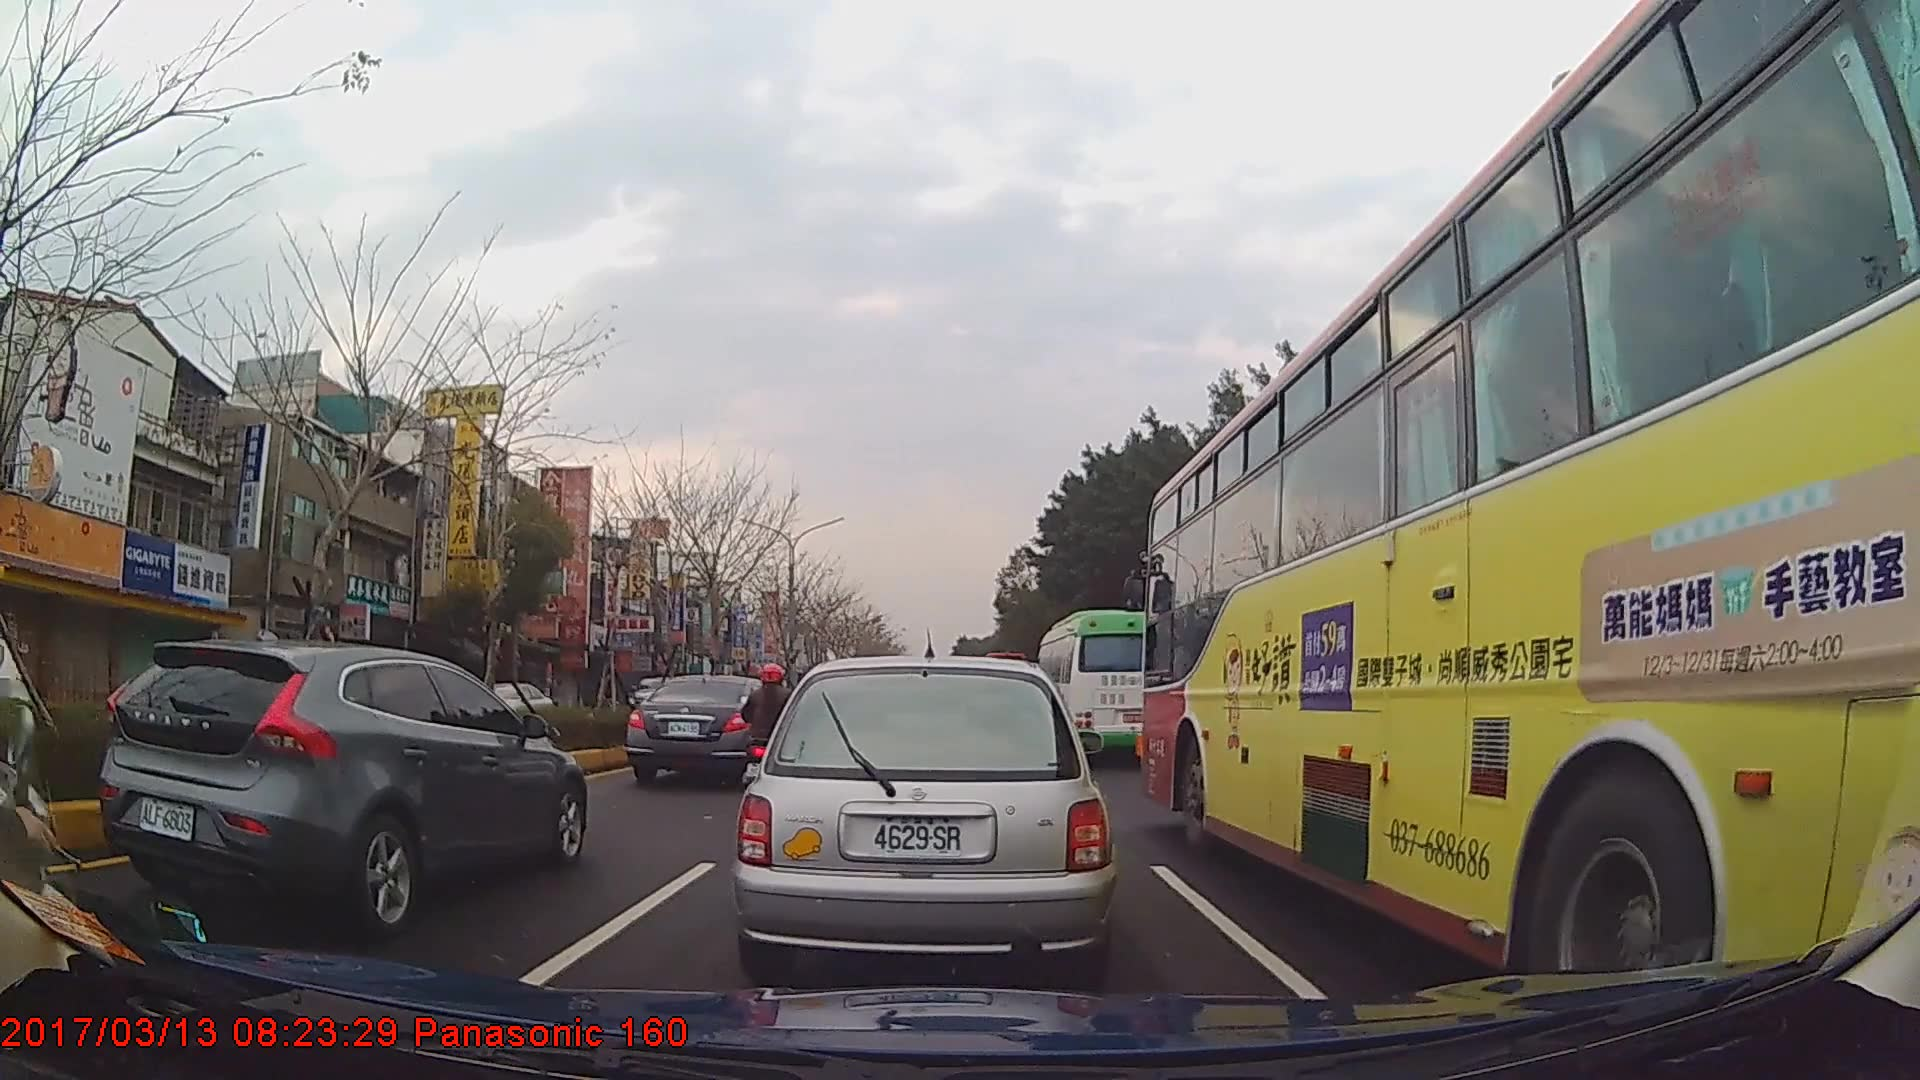rider: (742, 663, 803, 805)
vehicle: (1140, 0, 1920, 1032), (96, 635, 588, 925), (731, 652, 1115, 982), (1036, 608, 1167, 763), (626, 672, 786, 788), (467, 680, 553, 731)
